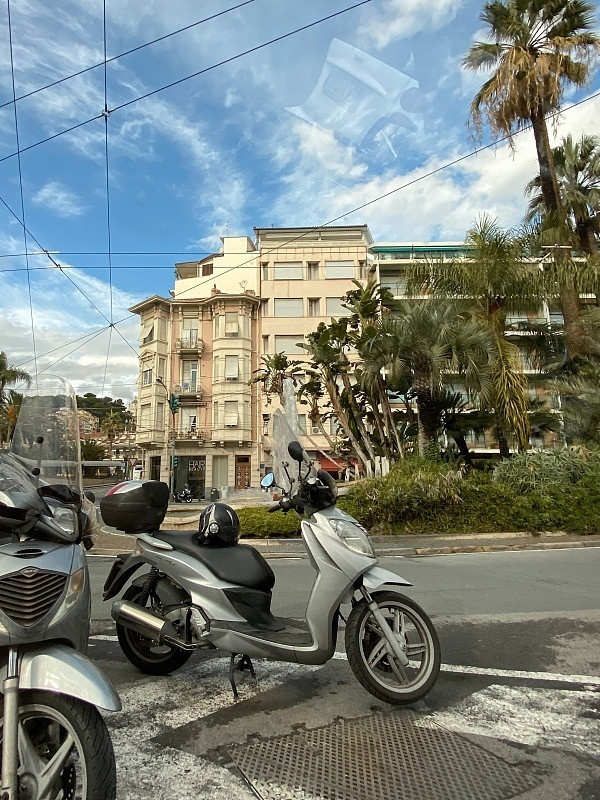non-vehicle: (72, 459, 476, 705), (0, 419, 126, 800)
